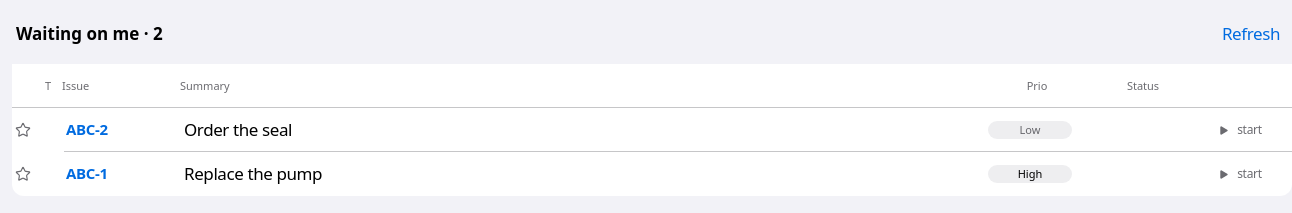
sorting › reorders the list when a column header is clicked
Check: the button "ABC-2" is shown, box [62,108,174,152]
What coordinates should you click on to do the following:
click the button titled "Sort by issue key"
I would click on:
 (118, 86)
Its box is [62,72,174,100].
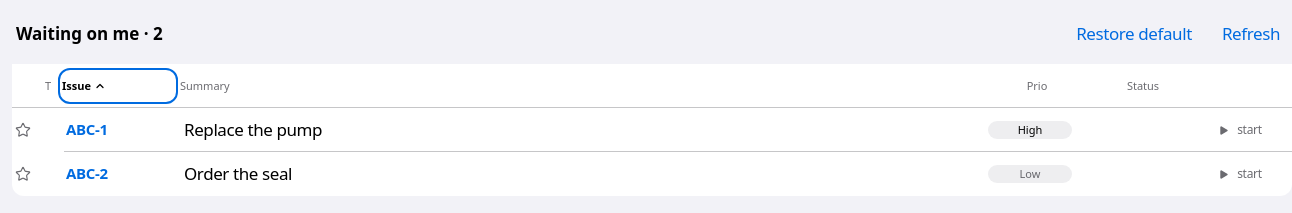
Check: the buttons "ABC-" read "ABC-1", "ABC-2", in this order, box [62,108,174,152]; [62,152,174,196]
